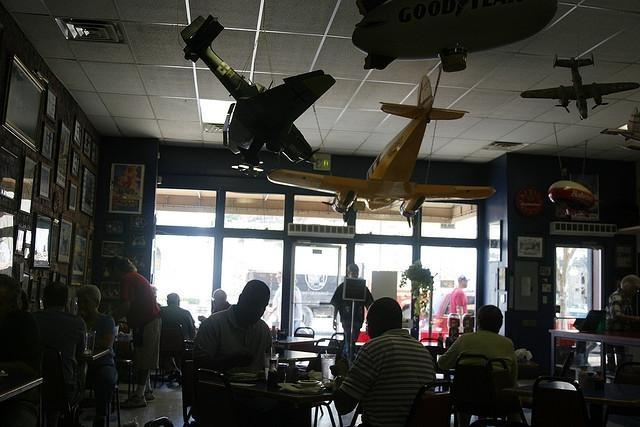truck: (246, 270, 412, 328), (431, 293, 452, 335)
